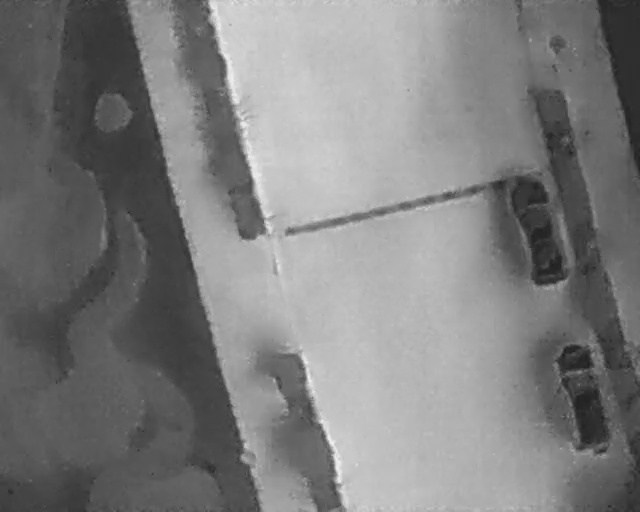Car: (501, 168, 577, 294), (546, 335, 621, 460)
